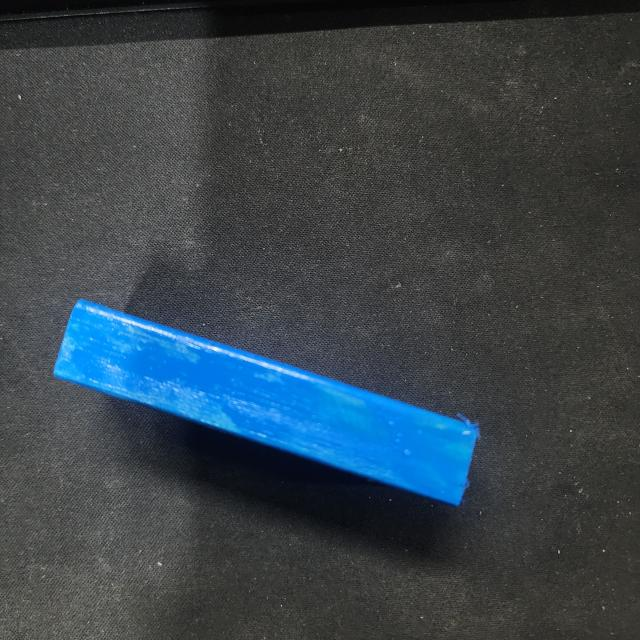blue: (51, 300, 485, 509)
